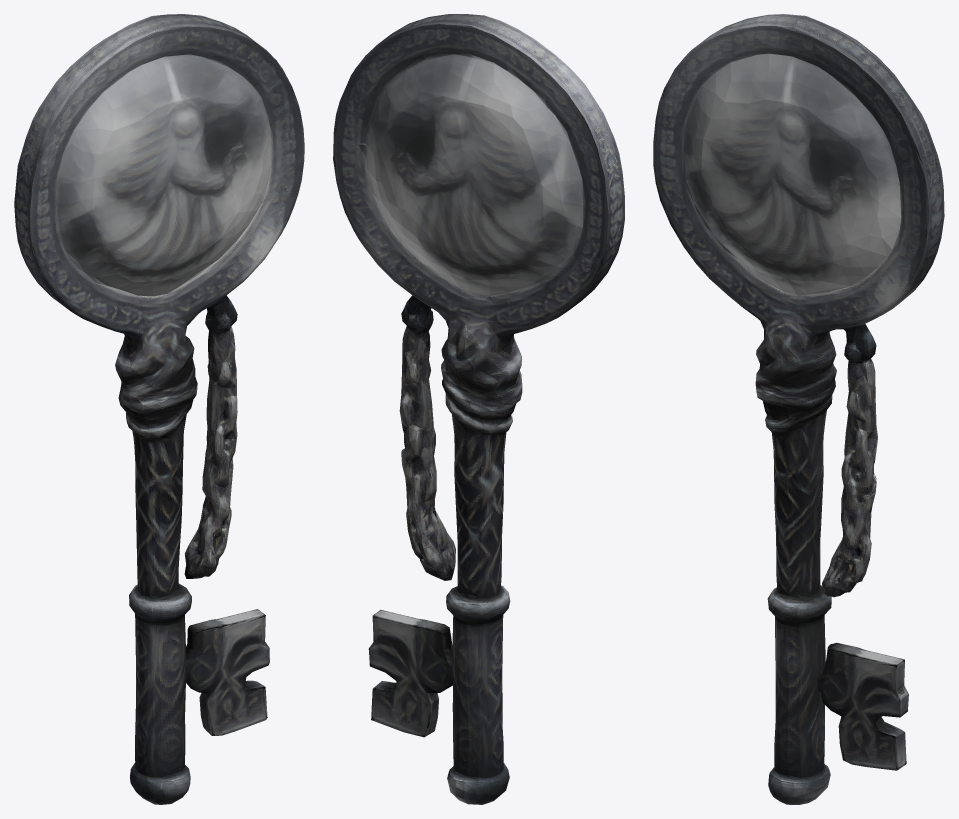
Rendered from White.glb.
3 renders of one model, left to right at view 1: azimuth 30°, elevation 25°; view 2: azimuth 150°, elevation 25°; view 3: azimuth 330°, elevation 25°, orthographic.
Visible parts, largest first — view 1: world; view 2: world; view 3: world.
Part boxes in pixels (left/top/right/bottom): world: left=14, top=14, right=304, bottom=804; world: left=333, top=14, right=624, bottom=804; world: left=653, top=14, right=944, bottom=804.
Size of the model in its own units: 0.3694 by 0.9985 by 0.0836.
1 material, 1 textured.
